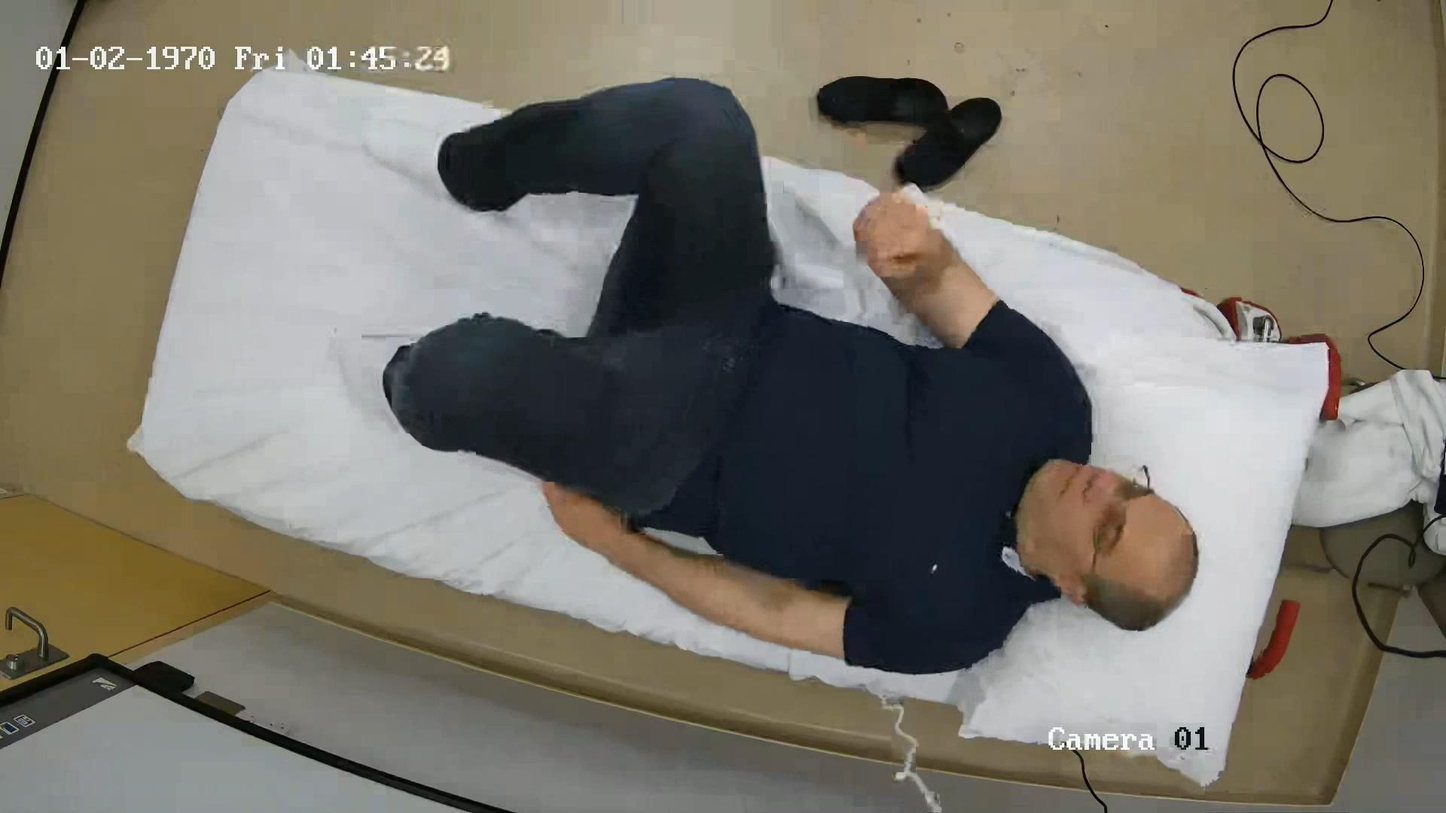bed: (134, 61, 1341, 772)
patient: (371, 79, 1194, 674)
